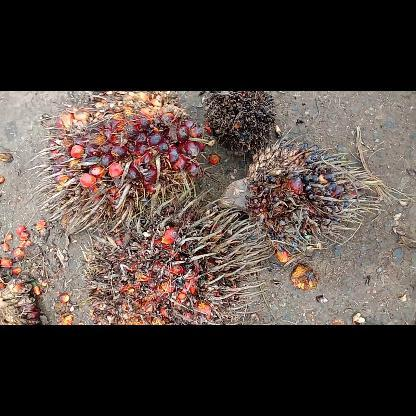TBS abnormal: (218, 137, 386, 257), (204, 91, 280, 157)
TBS masak: (26, 90, 209, 232)
Terlalu masak: (80, 190, 278, 324)
